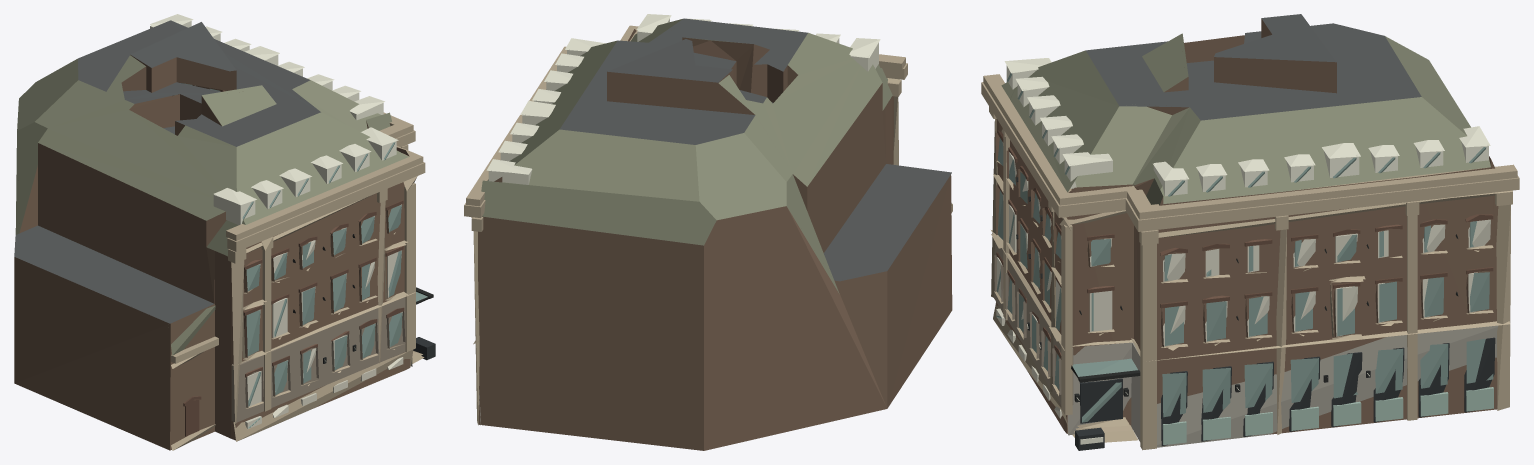
Rendered from hotel-notting-hill.lod1.glb.
The picture shows the model from 3 angles, left to right: view 1: azimuth 30°, elevation 25°; view 2: azimuth 150°, elevation 25°; view 3: azimuth 270°, elevation 25°; orthographic projection. The views are drawn at different scales.
Parts seen in each view (by area): view 1: hotel-notting-hill; view 2: hotel-notting-hill; view 3: hotel-notting-hill.
Boxes of the visible parts, x1=… form: hotel-notting-hill: x1=14, y1=14, x2=435, y2=450; hotel-notting-hill: x1=464, y1=14, x2=952, y2=450; hotel-notting-hill: x1=981, y1=14, x2=1519, y2=450.
Bounding box in the file's own units: 27.33 × 21.03 × 31.93.
